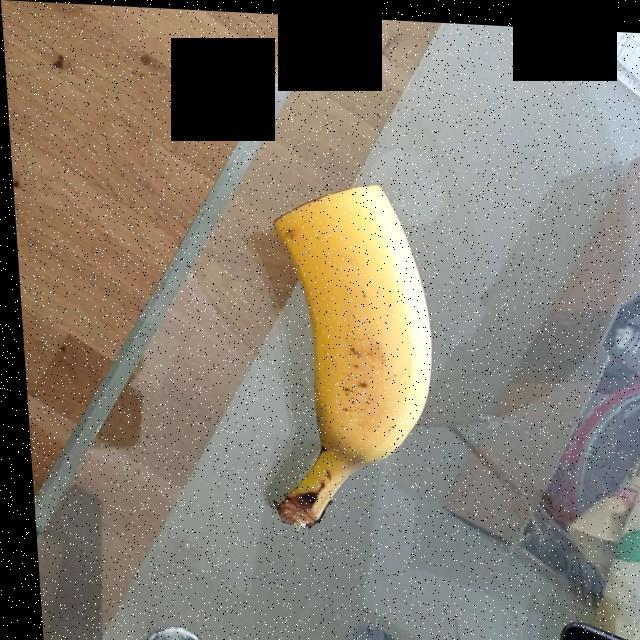banana: (272, 186, 423, 523)
